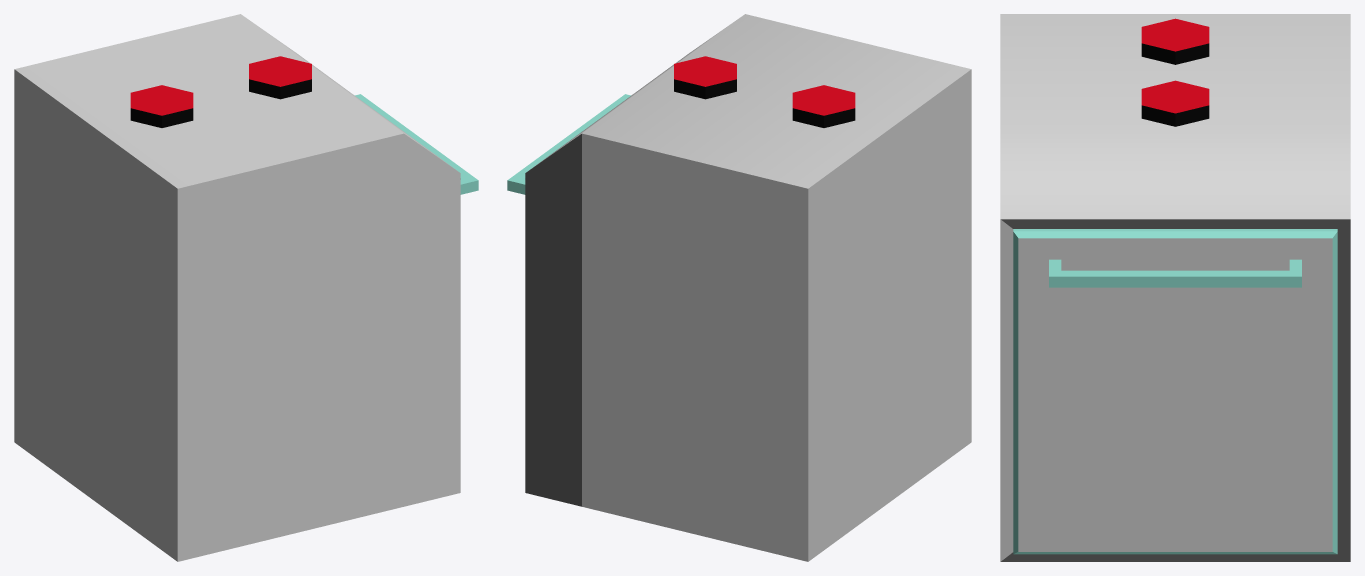
Rendered from gaziniere.fbx.
The picture shows the model from 3 angles, left to right: view 1: azimuth 30°, elevation 25°; view 2: azimuth 150°, elevation 25°; view 3: azimuth 270°, elevation 25°; orthographic projection. The views are drawn at different scales.
Parts seen in each view (by area): view 1: Gaziniere, Taque3, Taque1, Handle, Taque2; view 2: Gaziniere, Taque3, Taque2, Taque1, Handle; view 3: Gaziniere, Handle, Taque3, Taque1, Taque2.
Boxes of the visible parts, x1=… form: Gaziniere: x1=14, y1=14, x2=460, y2=561; Taque3: x1=130, y1=85, x2=193, y2=127; Taque1: x1=249, y1=56, x2=311, y2=99; Handle: x1=355, y1=94, x2=478, y2=194; Taque2: x1=249, y1=59, x2=311, y2=91; Gaziniere: x1=525, y1=14, x2=971, y2=561; Taque3: x1=792, y1=85, x2=855, y2=127; Taque2: x1=674, y1=56, x2=736, y2=99; Taque1: x1=674, y1=56, x2=736, y2=98; Handle: x1=507, y1=94, x2=630, y2=194; Gaziniere: x1=1000, y1=14, x2=1350, y2=561; Handle: x1=1049, y1=259, x2=1301, y2=287; Taque3: x1=1141, y1=18, x2=1209, y2=64; Taque1: x1=1141, y1=80, x2=1209, y2=126; Taque2: x1=1141, y1=82, x2=1209, y2=123.
Size of the model in its own units: 151 by 172 by 132.
